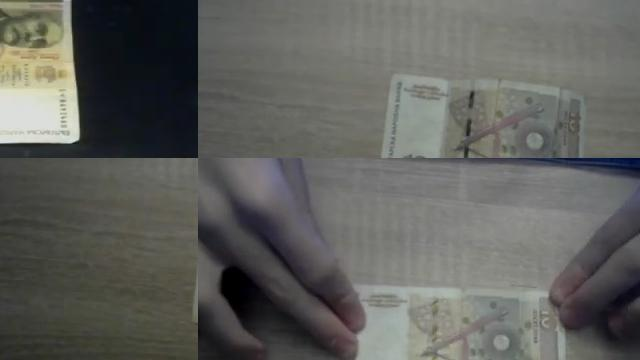10leva: (379, 74, 587, 158), (356, 285, 568, 360)
